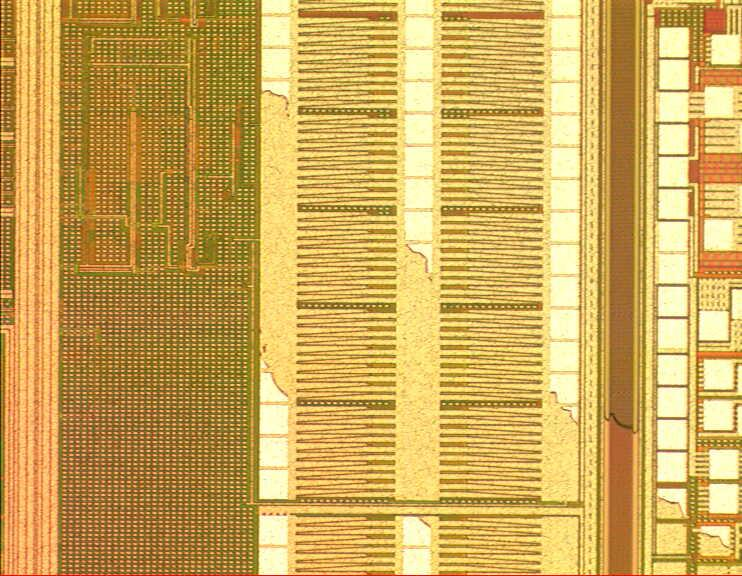COATING BAD: (258, 89, 742, 576)
